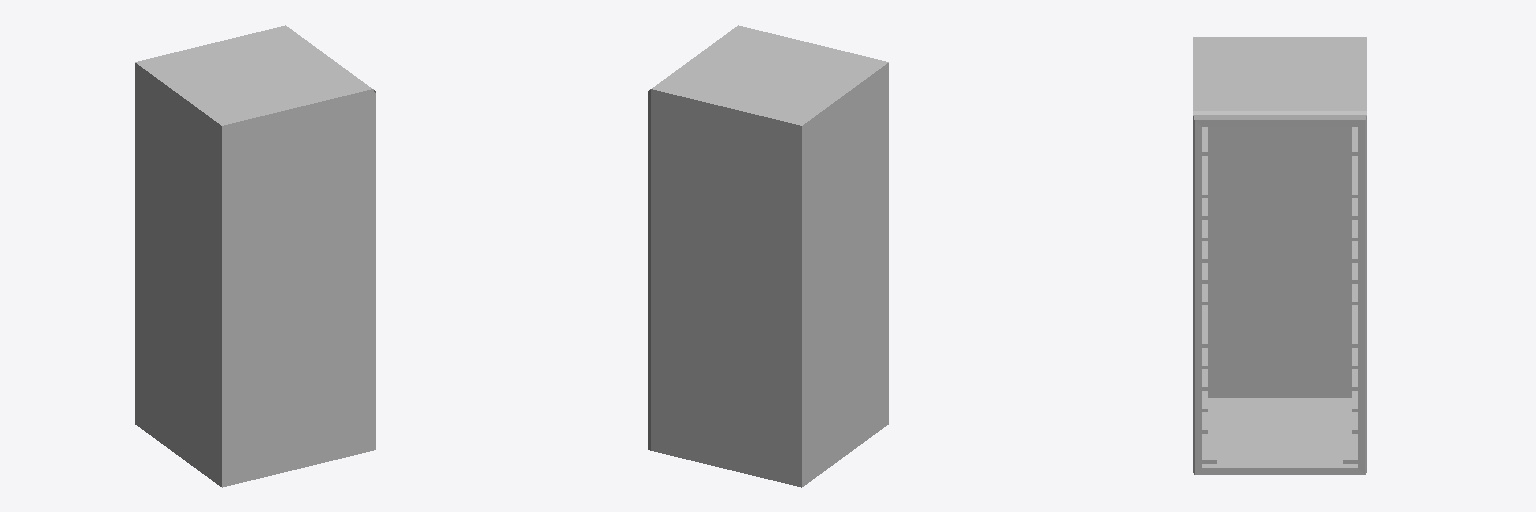
Rendered from rack2.obj.
3 views of the same model, side by side, from view 1: azimuth 30°, elevation 25°; view 2: azimuth 150°, elevation 25°; view 3: azimuth 270°, elevation 25° (orthographic).
Visible parts, largest first — view 1: rack_Cube1_auv; view 2: rack_Cube1_auv; view 3: rack_Cube1_auv.
Part boxes in pixels (x1,y1,x2,y2): rack_Cube1_auv: (135,25,375,487); rack_Cube1_auv: (648,25,888,487); rack_Cube1_auv: (1193,37,1366,474).
Size of the model in its own units: 4.88 by 10.86 by 4.74.